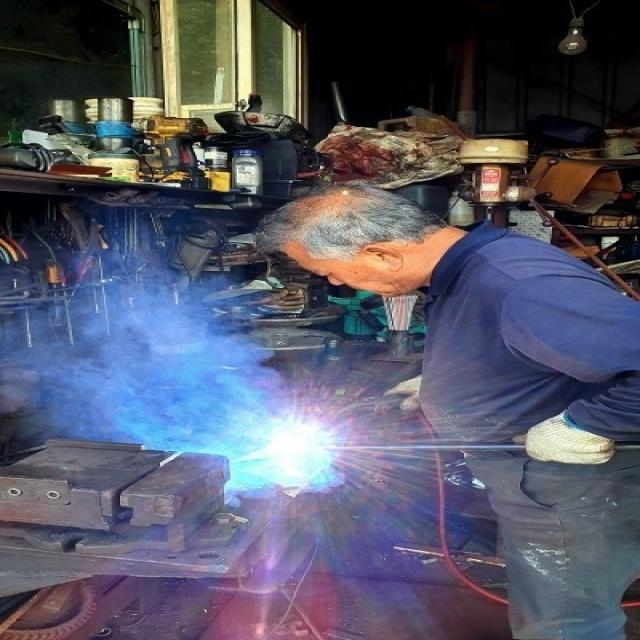welding: (262, 419, 336, 472)
